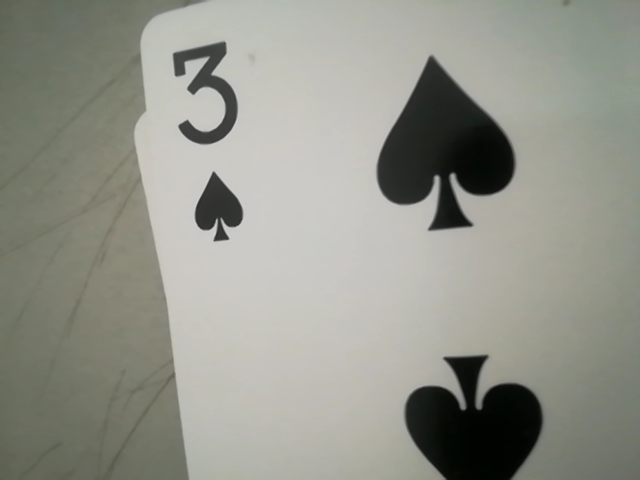ht 3: (163, 31, 261, 262)
